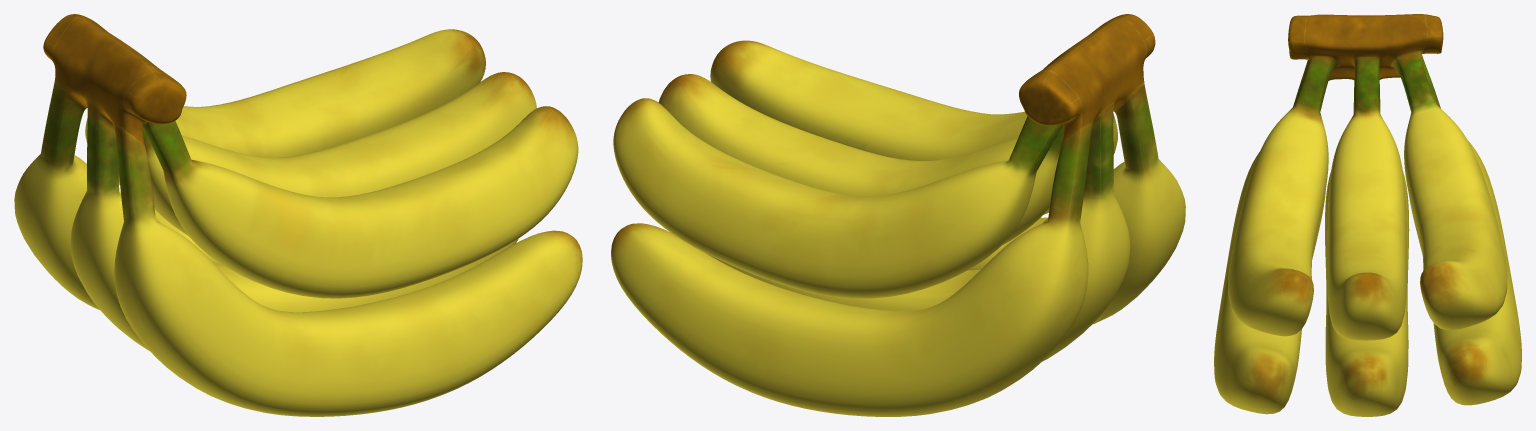
The model's file is banana.obj.
3 views of the same model, side by side, from view 1: azimuth 30°, elevation 25°; view 2: azimuth 150°, elevation 25°; view 3: azimuth 270°, elevation 25° (orthographic). The views are drawn at different scales.
Parts seen in each view (by area): view 1: Banana_Cube.001; view 2: Banana_Cube.001; view 3: Banana_Cube.001.
Boxes of the visible parts, x1=… form: Banana_Cube.001: x1=14, y1=14, x2=582, y2=416; Banana_Cube.001: x1=611, y1=14, x2=1185, y2=416; Banana_Cube.001: x1=1214, y1=14, x2=1521, y2=416.
Size of the model in its own units: 1.78 by 1.36 by 1.28.
